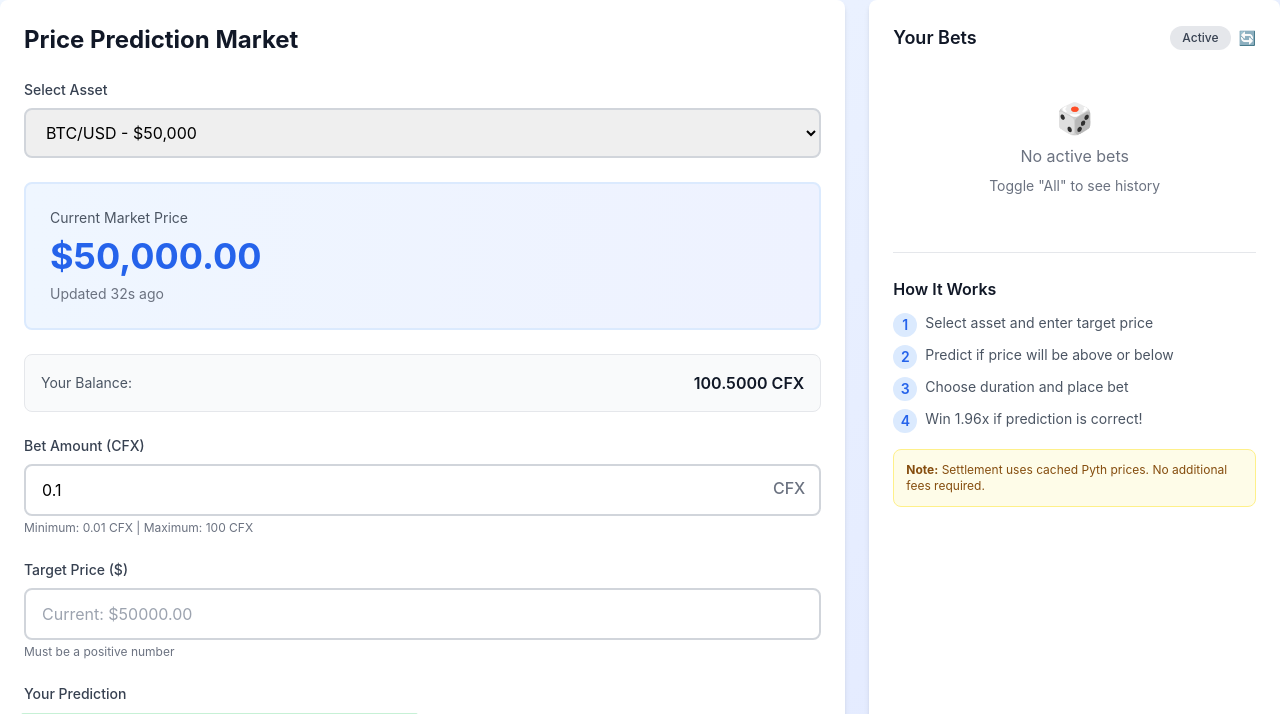
it: BettingInterface Component › Asset Selection › clears target price when asset changes
Step 1. Type "55000" into the number field with placeholder "Current: $50000.00" → x=423, y=614, box [24,588,821,640]
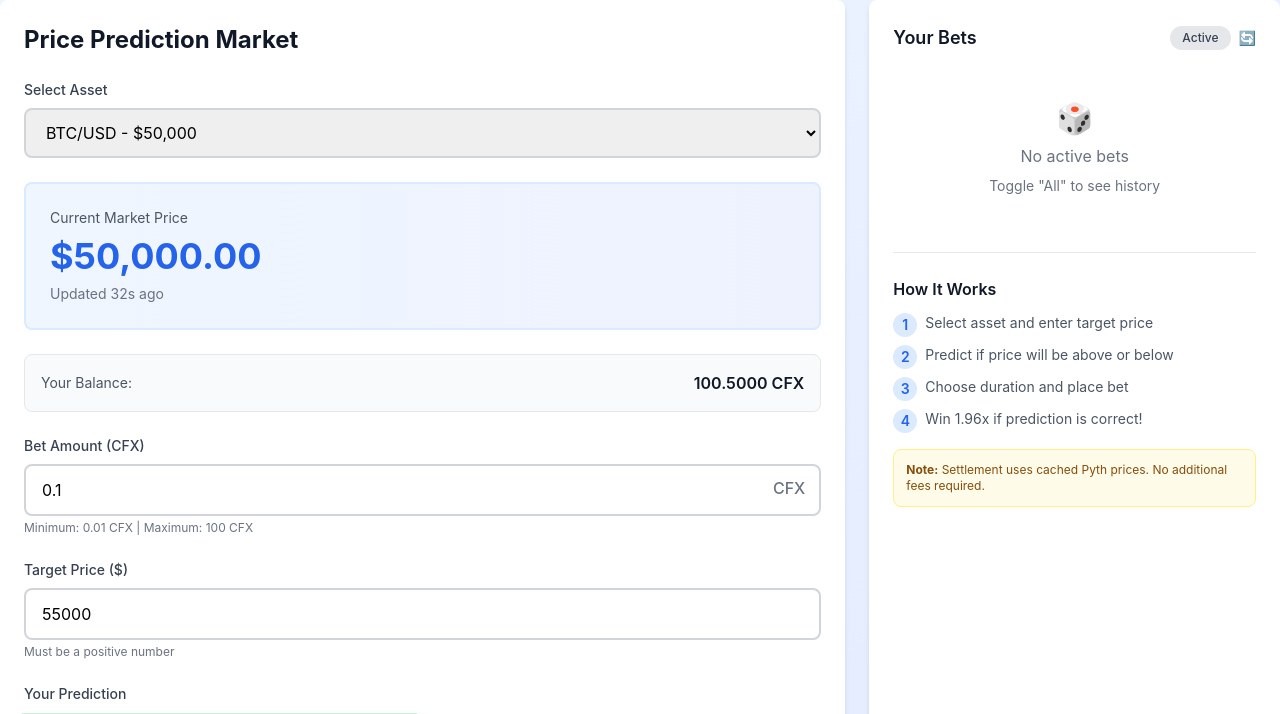
Step 2. Select "ETH/USD - $3,000" in the dropdown → x=423, y=133, box [24,108,821,158]
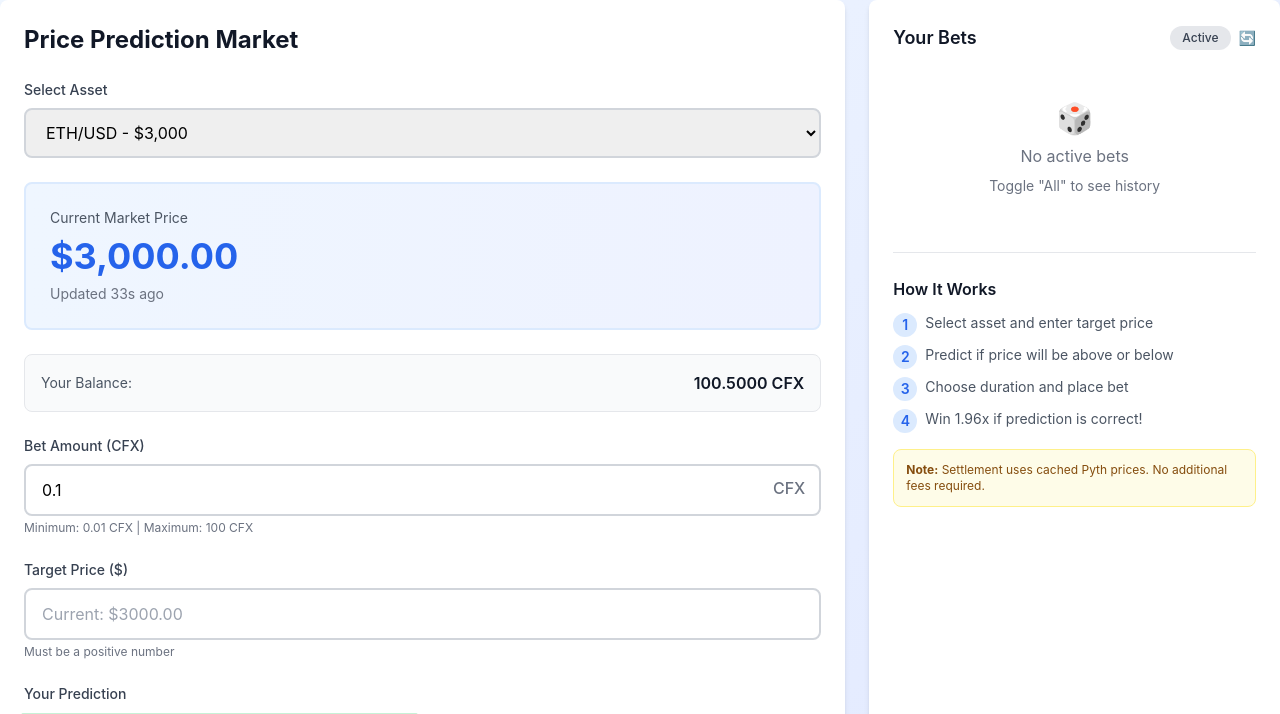
Check: the number field with placeholder "Current: $3000.00" is not empty, box [24,588,821,640]
